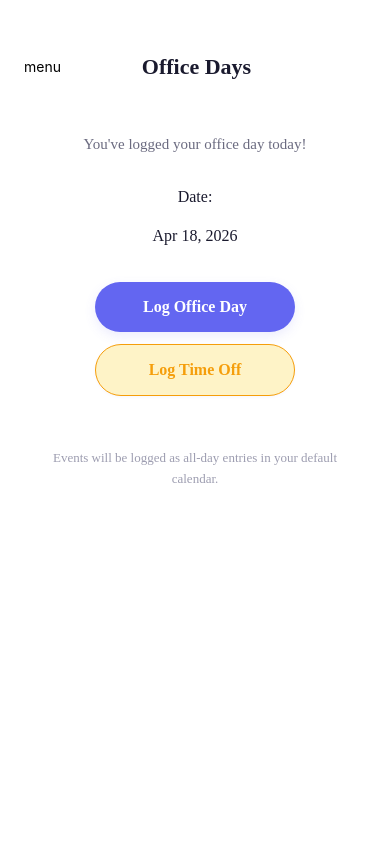
Test: MainScreen › Calendar Highlighting › should highlight office day dates in calendar with correct color
The image size is (390, 844).
Expected: the text "Office Days" is shown, 142,54 -> 251,80
Note: Open date picker
What coordinates should you click on to do the following:
click the element with test id "date-picker-button"
I would click on:
 (195, 236)
Its box is 95,214 -> 295,258.
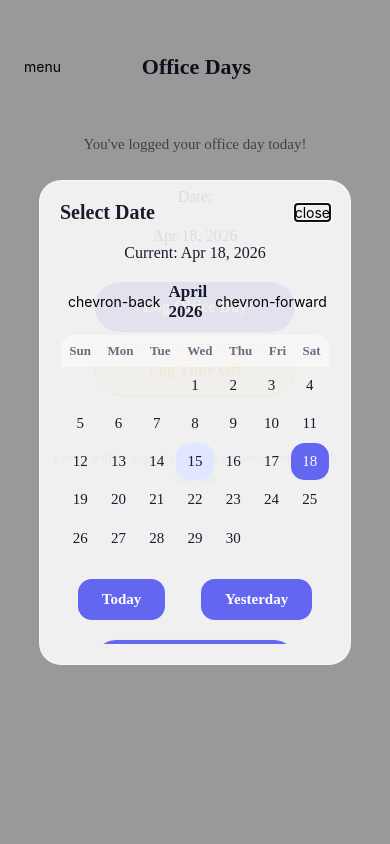
Expected: the text "Select Date" is shown, 60,200 -> 155,224
Expected: the text "April 2026" is shown, 168,282 -> 207,322
Expected: the text "15" is shown, 187,453 -> 202,470
